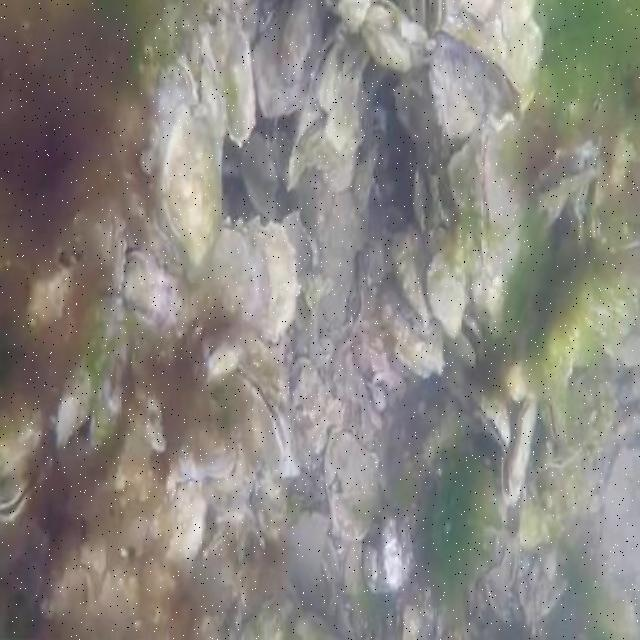Oyster-Closed: (160, 106, 223, 267), (250, 0, 321, 117), (141, 479, 207, 586), (379, 279, 445, 378), (247, 217, 299, 342), (209, 220, 268, 327), (170, 395, 240, 482), (326, 426, 378, 543), (431, 36, 488, 142), (480, 122, 528, 237), (360, 0, 434, 70), (536, 389, 593, 475), (122, 248, 177, 331), (78, 198, 127, 291), (392, 225, 431, 328), (365, 514, 413, 594), (429, 250, 467, 339), (584, 84, 608, 141), (396, 11, 430, 45), (178, 53, 199, 107), (203, 524, 229, 563)
Oyster-Open: (0, 395, 53, 524), (228, 363, 289, 471), (493, 388, 542, 514), (288, 89, 326, 187), (465, 379, 510, 453), (310, 30, 346, 112), (56, 395, 95, 460), (447, 314, 486, 370), (538, 376, 567, 443), (417, 0, 442, 32)
